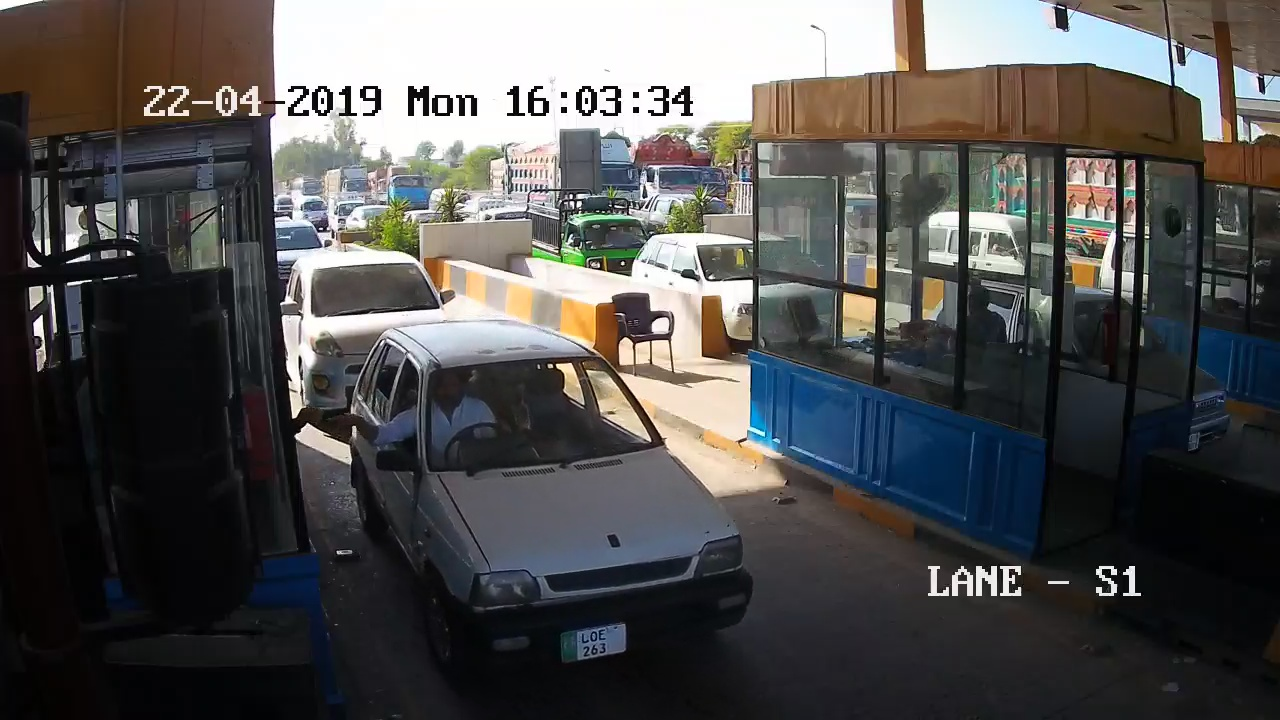Number Plate (Car): (559, 629, 633, 659)
